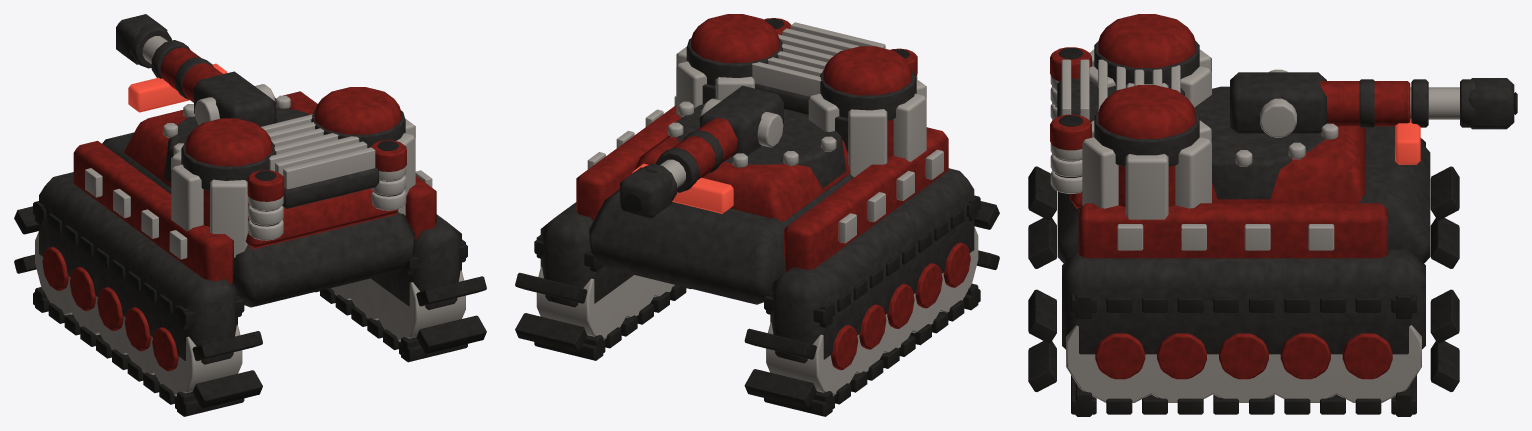
Rendered from kharn_brasier.gltf.
The picture shows the model from 3 angles, left to right: view 1: azimuth 30°, elevation 25°; view 2: azimuth 150°, elevation 25°; view 3: azimuth 270°, elevation 25°; orthographic projection. The views are drawn at different scales.
Parts seen in each view (by area): view 1: Root.024_Geometry, Track_-0.68_0.003_Geometry, Track_0.68_0.003_Geometry, GunRecoil.009_Geometry, GunPitch.012_Geometry, Wheel_-0.67628_0.003_Geometry, Wheel_0.67628_0.003_Geometry, Wheel_-0.67628_4.003_Geometry, Wheel_-0.67628_1.003_Geometry, Wheel_-0.67628_3.003_Geometry, Wheel_-0.67628_2.003_Geometry, Wheel_0.67628_1.003_Geometry; view 2: Root.024_Geometry, Track_-0.68_0.003_Geometry, GunRecoil.009_Geometry, Track_0.68_0.003_Geometry, GunPitch.012_Geometry, Wheel_-0.67628_4.003_Geometry, Wheel_0.67628_4.003_Geometry, Wheel_-0.67628_0.003_Geometry, Wheel_-0.67628_3.003_Geometry, Wheel_-0.67628_2.003_Geometry, Wheel_-0.67628_1.003_Geometry, Wheel_0.67628_3.003_Geometry; view 3: Root.024_Geometry, Track_0.68_0.003_Geometry, GunRecoil.009_Geometry, GunPitch.012_Geometry, Track_-0.68_0.003_Geometry, Wheel_0.67628_0.003_Geometry, Wheel_0.67628_4.003_Geometry, Wheel_0.67628_1.003_Geometry, Wheel_0.67628_2.003_Geometry, Wheel_0.67628_3.003_Geometry.
Part boxes in pixels (x1,y1,x2,y2): Root.024_Geometry: (39, 63, 461, 364); Track_-0.68_0.003_Geometry: (14, 201, 262, 416); Track_0.68_0.003_Geometry: (315, 239, 486, 362); GunRecoil.009_Geometry: (116, 14, 222, 102); GunPitch.012_Geometry: (194, 71, 276, 126); Wheel_-0.67628_0.003_Geometry: (146, 324, 242, 395); Wheel_0.67628_0.003_Geometry: (368, 270, 465, 341); Wheel_-0.67628_4.003_Geometry: (35, 231, 72, 315); Wheel_-0.67628_1.003_Geometry: (119, 307, 158, 374); Wheel_-0.67628_3.003_Geometry: (65, 267, 103, 334); Wheel_-0.67628_2.003_Geometry: (91, 287, 130, 354); Wheel_0.67628_1.003_Geometry: (350, 279, 386, 320); Root.024_Geometry: (540, 14, 974, 363); Track_-0.68_0.003_Geometry: (744, 195, 999, 416); GunRecoil.009_Geometry: (619, 117, 737, 219); Track_0.68_0.003_Geometry: (515, 235, 690, 360); GunPitch.012_Geometry: (699, 85, 783, 157); Wheel_-0.67628_4.003_Geometry: (766, 322, 863, 395); Wheel_0.67628_4.003_Geometry: (536, 266, 636, 339); Wheel_-0.67628_0.003_Geometry: (938, 227, 978, 312); Wheel_-0.67628_3.003_Geometry: (855, 304, 892, 373); Wheel_-0.67628_2.003_Geometry: (883, 284, 920, 353); Wheel_-0.67628_1.003_Geometry: (912, 263, 948, 332); Wheel_0.67628_3.003_Geometry: (621, 275, 654, 317); Root.024_Geometry: (1050, 14, 1430, 354); Track_0.68_0.003_Geometry: (1028, 289, 1459, 416); GunRecoil.009_Geometry: (1320, 78, 1517, 129); GunPitch.012_Geometry: (1230, 69, 1326, 137); Track_-0.68_0.003_Geometry: (1028, 166, 1459, 268); Wheel_0.67628_0.003_Geometry: (1066, 325, 1166, 402); Wheel_0.67628_4.003_Geometry: (1323, 325, 1421, 402); Wheel_0.67628_1.003_Geometry: (1136, 333, 1228, 402); Wheel_0.67628_2.003_Geometry: (1199, 333, 1290, 402); Wheel_0.67628_3.003_Geometry: (1259, 333, 1352, 402).
Bounding box in the file's own units: 1.73 × 1.42 × 2.27.
6 materials, 3 textured.
